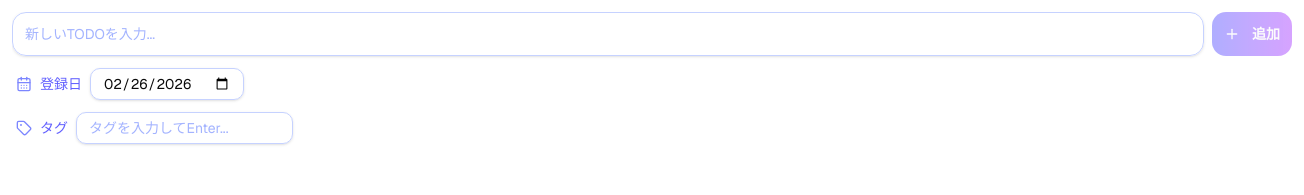
it: TodoInput › タグ入力 › タグを削除できる
Type "仕事" into the field with placeholder "タグを入力してEnter..." at coordinates (184, 128), box x1=76 y1=112 x2=293 y2=144
Then press Enter
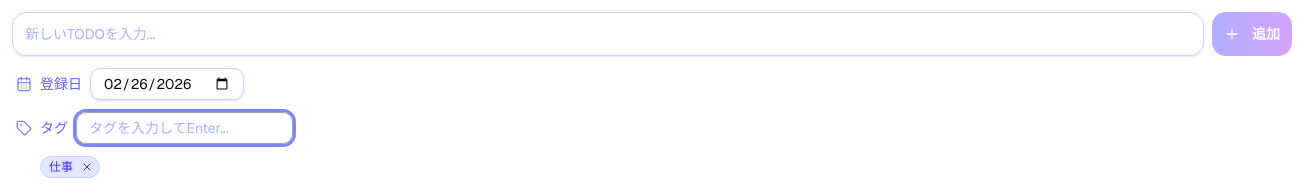
Result: the text "仕事" is shown at x1=40 y1=156 x2=100 y2=178
Click the button named "タグ「仕事」を削除" at coordinates (87, 167), box x1=79 y1=159 x2=95 y2=175
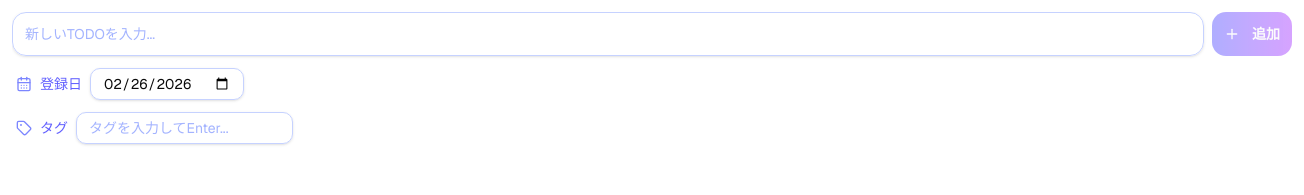
Result: the text "仕事" is gone
